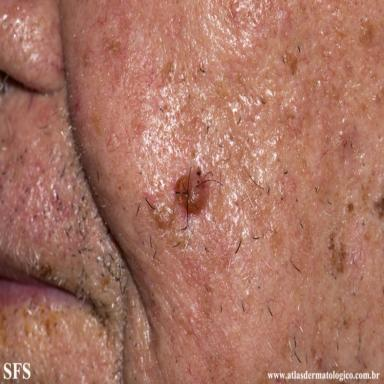basal-cell-carcinoma: (150, 194, 174, 227)
